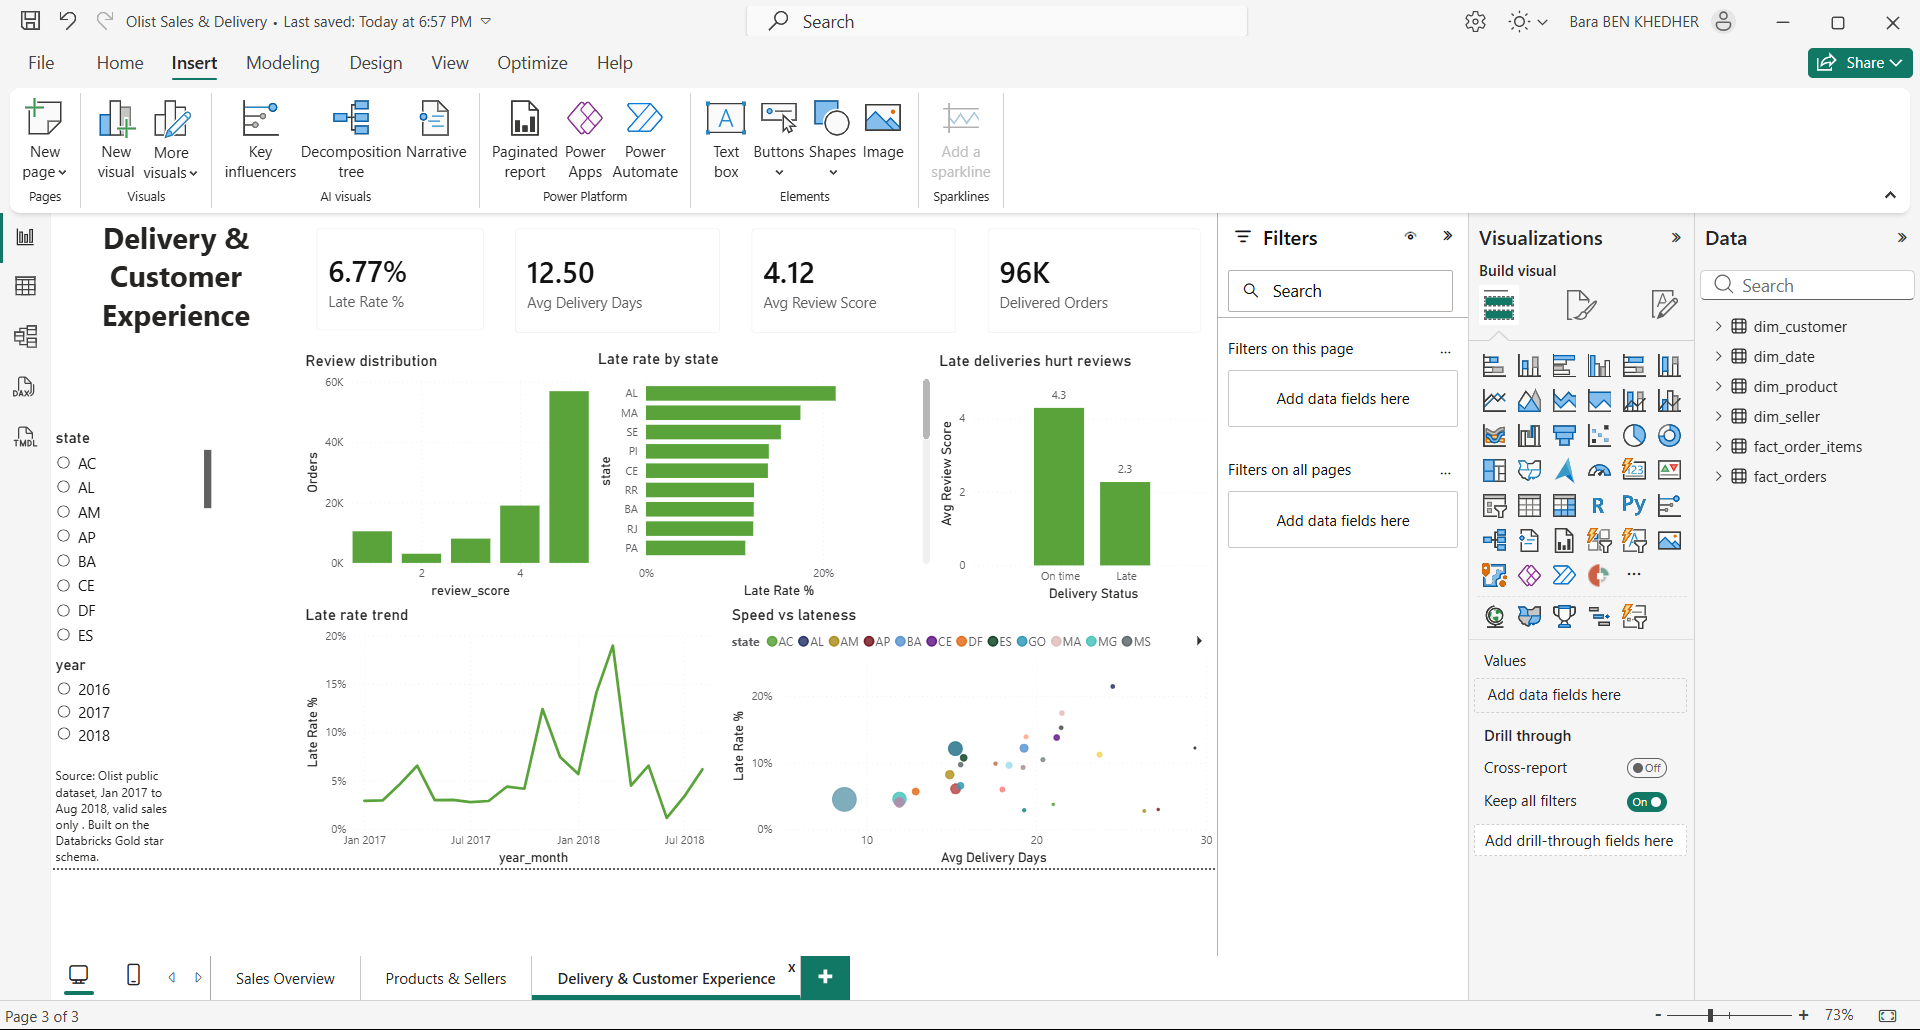

Layout of this report page (visuals, bound fields, positions):
{"tool":"powerbi","page":{"name":"Delivery & Customer Experience","canvas":[1280,720],"ordinal":2},"visuals":[{"type":"listSlicer","fields":{"Values":["dim_date.year"]},"box":[0,485.8,181.1,234.6],"z":0},{"type":"listSlicer","fields":{"Values":["dim_customer.state"]},"box":[0,236,181.1,247],"z":1000},{"type":"cardVisual","fields":{"Data":["fact_orders.Late Rate %"]},"box":[274.4,0,218.2,146.8],"z":2000},{"type":"cardVisual","fields":{"Data":["fact_orders.Avg Delivery Days"]},"box":[492.6,0,259.3,149.6],"z":3000},{"type":"cardVisual","fields":{"Data":["fact_orders.Avg Review Score"]},"box":[752,0,259.3,149.6],"z":4000},{"type":"cardVisual","fields":{"Data":["fact_orders.Delivered Orders"]},"box":[1011.3,0,269,149.6],"z":5000},{"type":"clusteredColumnChart","title":"Late deliveries hurt reviews","fields":{"Category":["fact_orders.Delivery Status"],"Y":["fact_orders.Avg Review Score"]},"box":[970.2,152.3,310.1,278.6],"z":6000},{"type":"clusteredBarChart","title":"Late rate by state","fields":{"Category":["dim_customer.state"],"Y":["fact_orders.Late Rate %"]},"box":[595.5,149.6,374.6,278.6],"z":7000},{"type":"scatterChart","title":"Speed vs lateness","fields":{"Series":["dim_customer.state"],"Size":["fact_orders.Delivered Orders"],"X":["fact_orders.Avg Delivery Days"],"Y":["fact_orders.Late Rate %"]},"box":[742.4,430.9,537.9,289.5],"z":8000},{"type":"lineChart","title":"Late rate trend","fields":{"Category":["dim_date.year_month"],"Y":["fact_orders.Late Rate %"]},"box":[274.4,430.9,467.9,289.5],"z":9000},{"type":"clusteredColumnChart","title":"Review distribution","fields":{"Category":["fact_orders.review_score"],"Y":["fact_orders.Orders"]},"box":[274.4,152.3,321.1,275.8],"z":10000},{"type":"textbox","box":[0,0,274.4,149.6],"z":11000},{"type":"textbox","box":[0,603.8,137.2,116.6],"z":11001}]}

Visuals, with their boxes on the page's 1280x720 design canvas (x1, y1, x2, y2). These are canvas units, not pixel positions in the 1920x1030 screenshot, which may show the page scaled, cropped or inside an application window:
listSlicer - dim_date.year: [0,486,181,720]
listSlicer - dim_customer.state: [0,236,181,483]
cardVisual - fact_orders.Late Rate %: [274,0,493,147]
cardVisual - fact_orders.Avg Delivery Days: [493,0,752,150]
cardVisual - fact_orders.Avg Review Score: [752,0,1011,150]
cardVisual - fact_orders.Delivered Orders: [1011,0,1280,150]
"Late deliveries hurt reviews" clusteredColumnChart: [970,152,1280,431]
"Late rate by state" clusteredBarChart: [596,150,970,428]
"Speed vs lateness" scatterChart: [742,431,1280,720]
"Late rate trend" lineChart: [274,431,742,720]
"Review distribution" clusteredColumnChart: [274,152,596,428]
textbox: [0,0,274,150]
textbox: [0,604,137,720]
